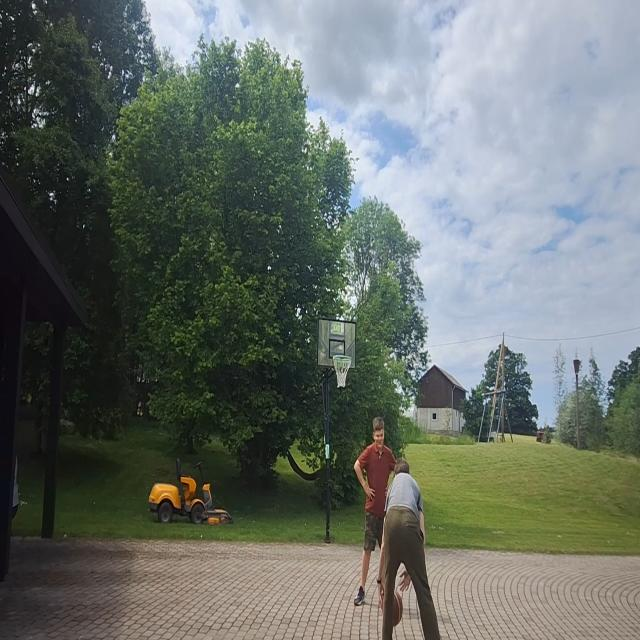ball: (387, 584, 404, 627)
basket: (332, 353, 353, 391)
player: (380, 451, 444, 640), (352, 416, 401, 609)
